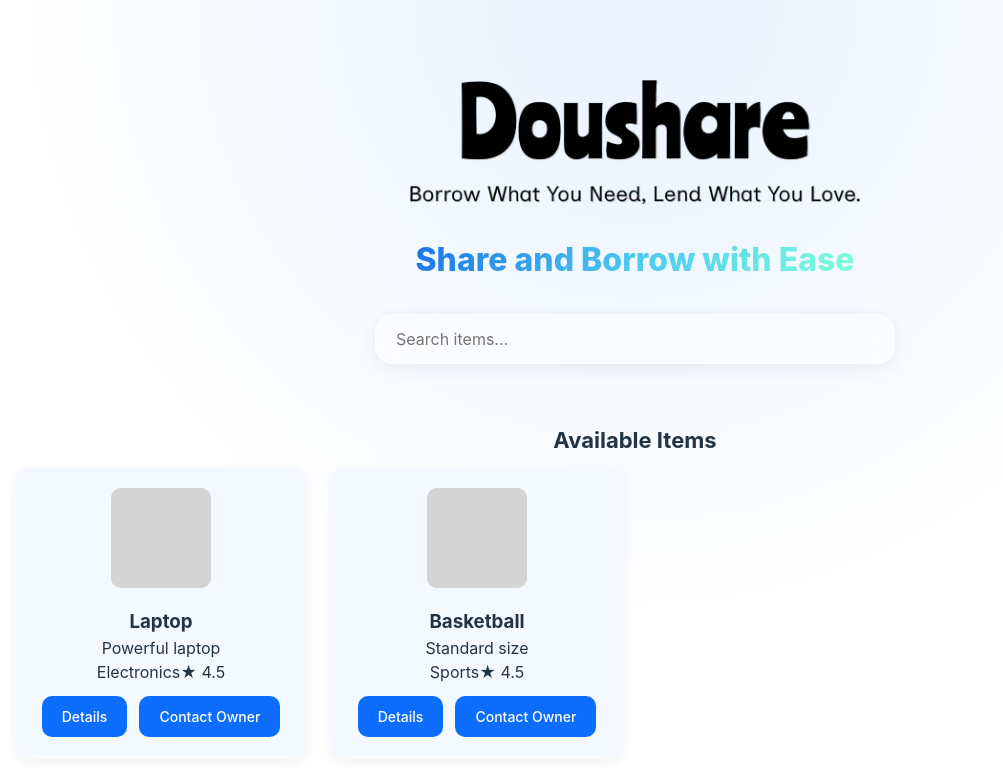
Test case: HomePage Tests › search filters items correctly
Expected: the heading "Laptop" is shown, [129, 610, 193, 633]
Expected: the heading "Basketball" is shown, [429, 610, 525, 633]
Type "lap" into the field with placeholder "Search items..." at (635, 339), box [375, 314, 895, 364]
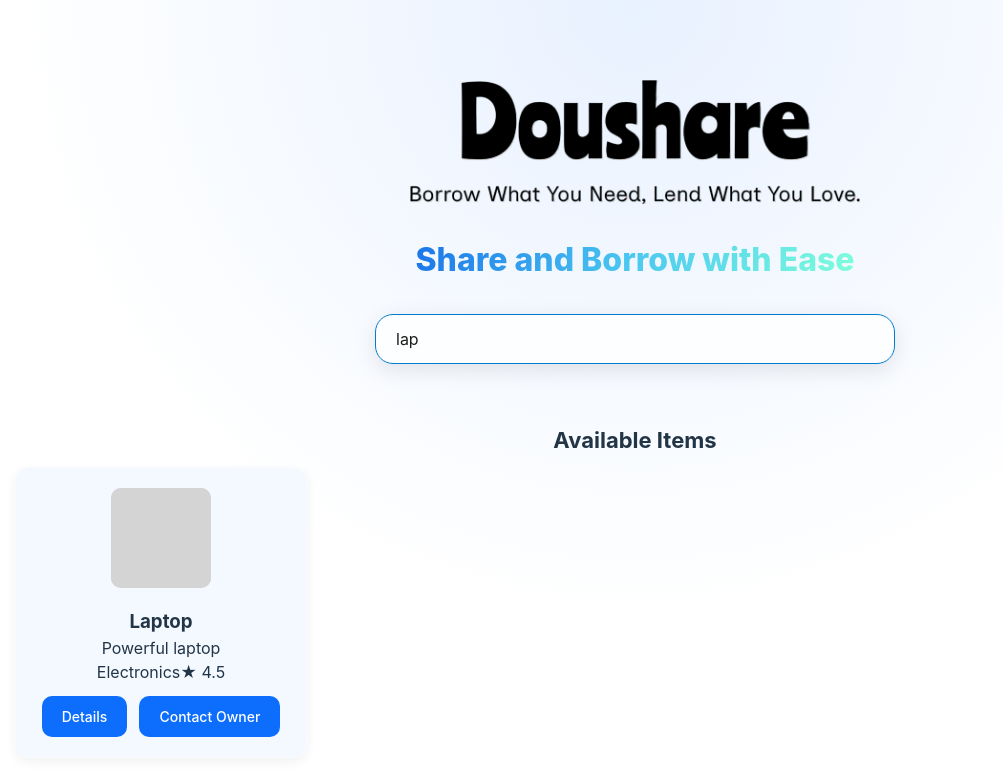
Expected: the heading "Laptop" is shown, [129, 610, 193, 633]
Expected: the heading "Basketball" is gone
